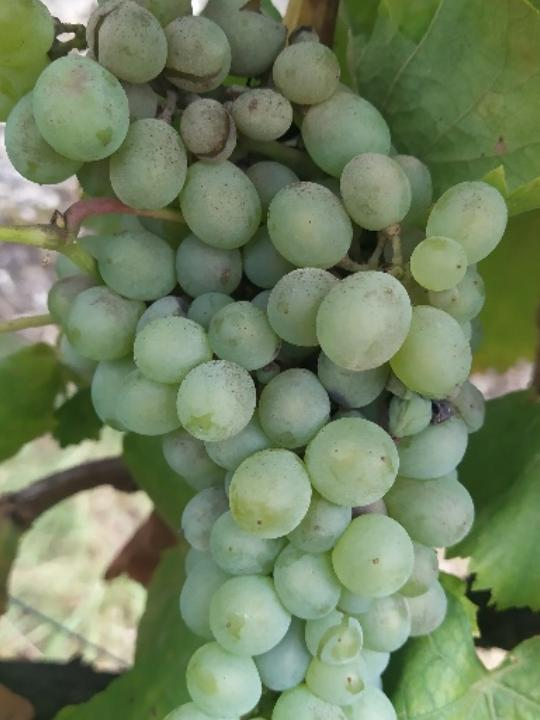grape: (0, 0, 512, 720)
